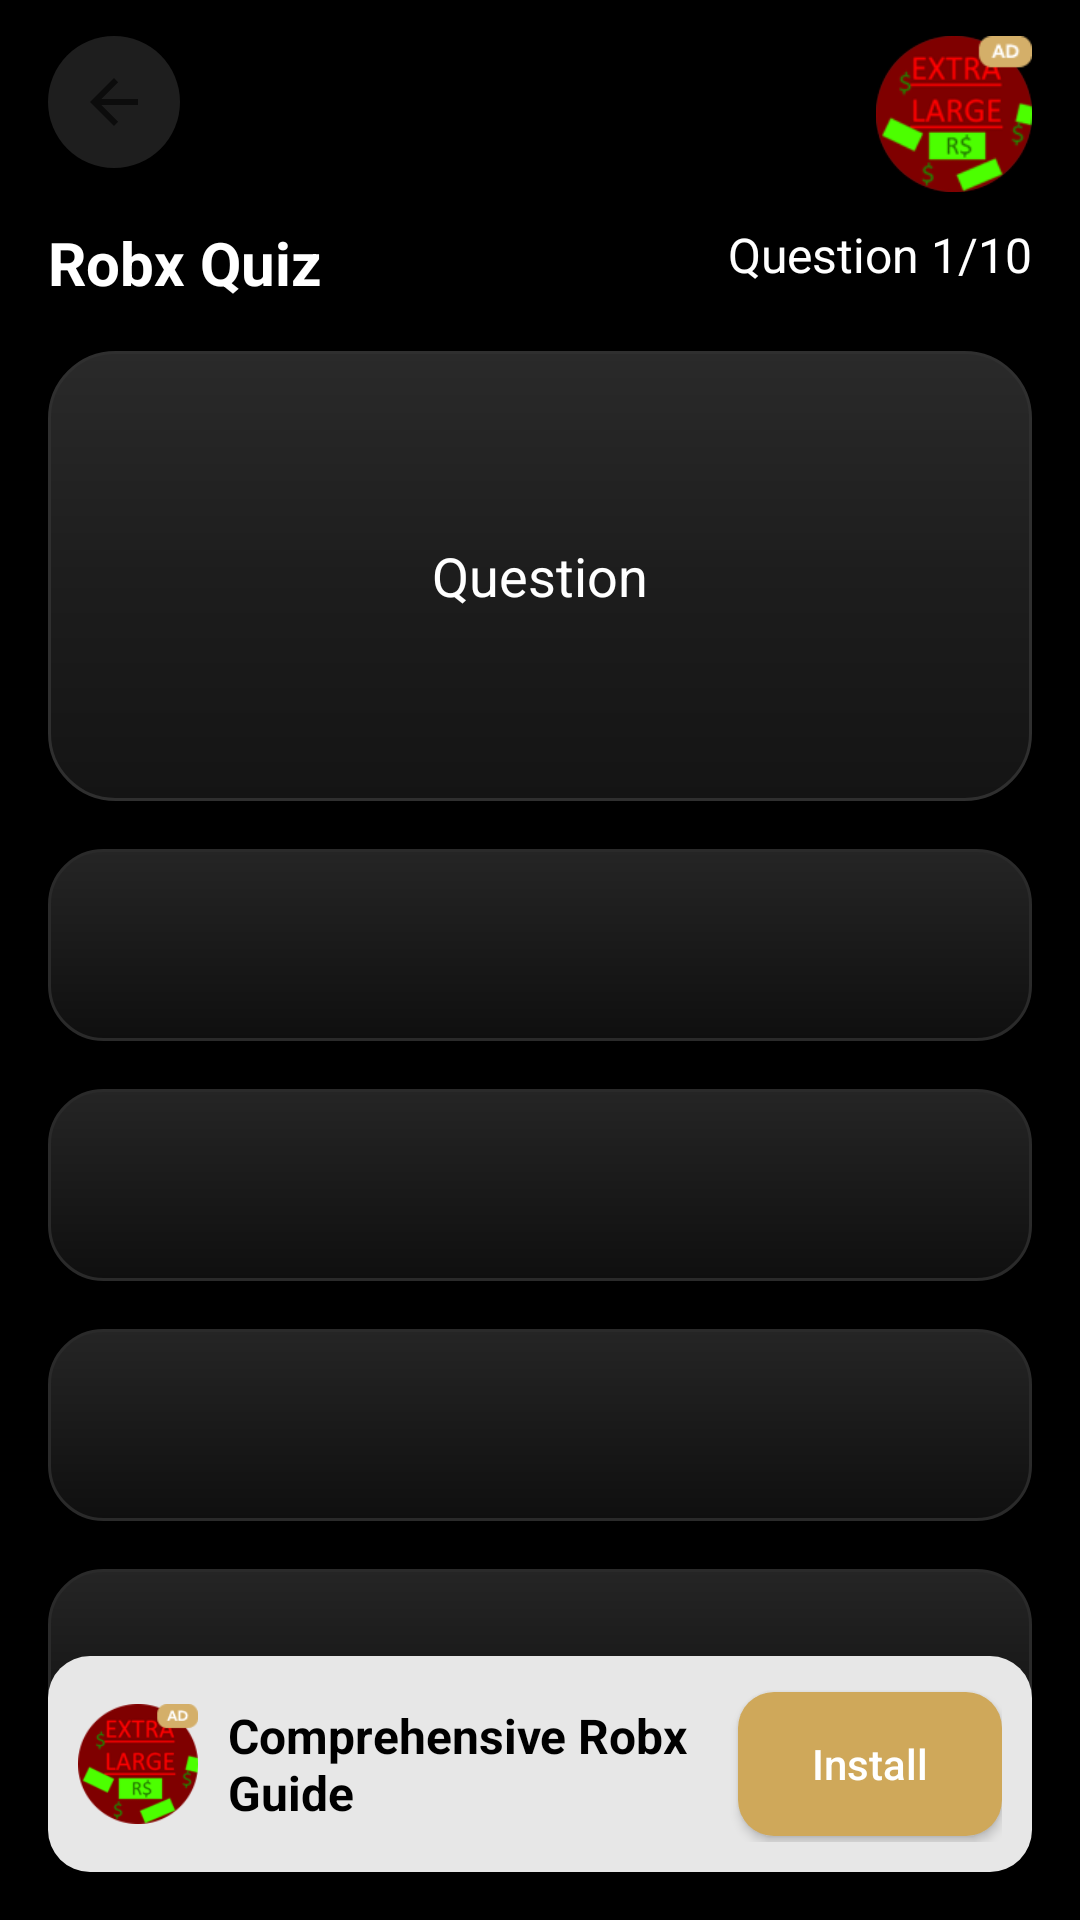

Screen size 1080px x 1920px. Icon name, then its box in pixels as (x1, y1, x2, y2):
ab back: (48, 36, 180, 168)
